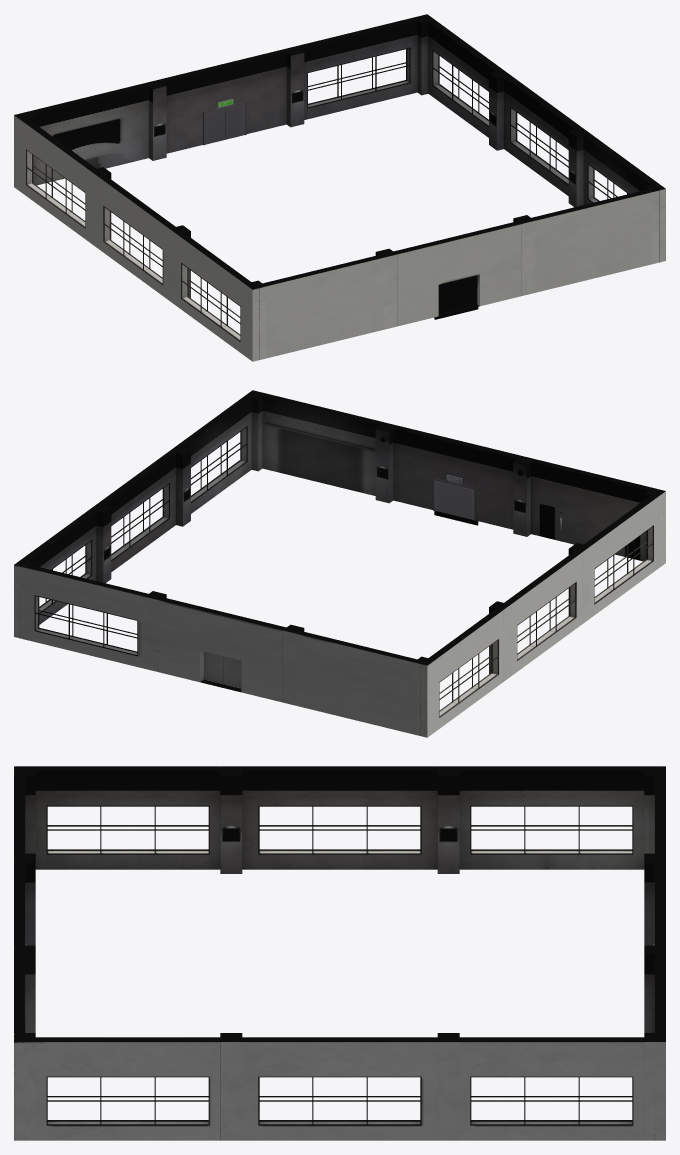
Rendered from 20220601wall.gltf.
The picture shows the model from 3 angles, top to bottom: view 1: azimuth 30°, elevation 25°; view 2: azimuth 150°, elevation 25°; view 3: azimuth 270°, elevation 25°; orthographic projection. The views are drawn at different scales.
Parts seen in each view (by area): view 1: NS Wall, WE Wall, Pillar, WindowFrame, NemDoor+Sign, Cube; view 2: NS Wall, WE Wall, Pillar, WindowFrame, SentDoor+Sign, NemDoor+Sign; view 3: WE Wall, Pillar, WindowFrame, NS Wall.
Boxes of the visible parts, bbox=[...] form: NS Wall: bbox=[14, 15, 664, 360]; WE Wall: bbox=[14, 15, 665, 361]; Pillar: bbox=[14, 14, 665, 361]; WindowFrame: bbox=[26, 47, 628, 341]; NemDoor+Sign: bbox=[203, 98, 246, 145]; Cube: bbox=[434, 275, 478, 319]; NS Wall: bbox=[14, 392, 665, 736]; WE Wall: bbox=[14, 391, 665, 737]; Pillar: bbox=[14, 390, 665, 737]; WindowFrame: bbox=[34, 426, 653, 717]; SentDoor+Sign: bbox=[433, 474, 476, 520]; NemDoor+Sign: bbox=[204, 651, 241, 688]; WE Wall: bbox=[14, 766, 665, 1140]; Pillar: bbox=[14, 766, 665, 1140]; WindowFrame: bbox=[46, 805, 633, 1125]; NS Wall: bbox=[14, 766, 665, 1139].
Size of what is drawn, in the model's own units: 30 by 5.36 by 30.
Materials: 7 (6 with a texture image).
